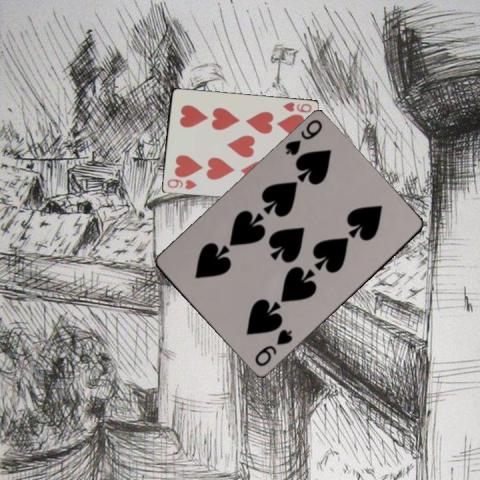9h: (164, 176, 198, 191), (280, 99, 313, 114)
9s: (251, 327, 294, 368), (282, 117, 324, 157)
